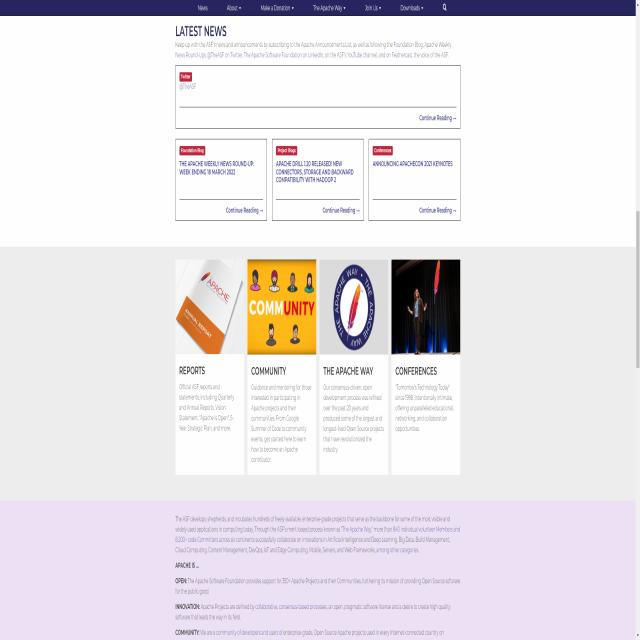tab-bar: (194, 1, 450, 14)
